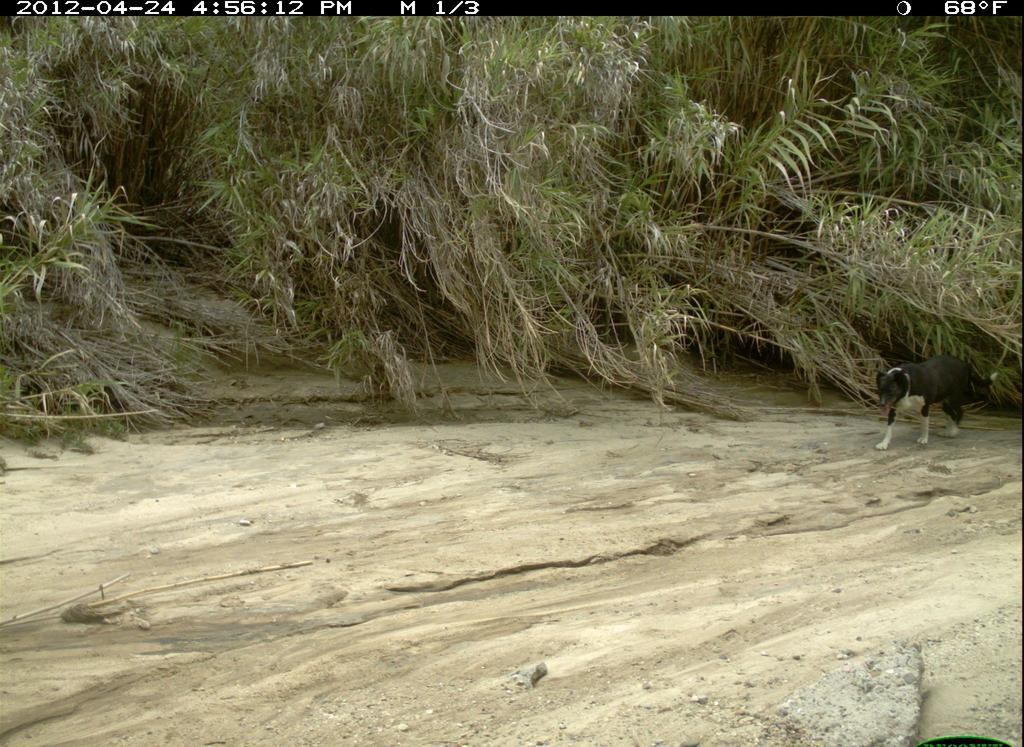dog: (866, 341, 1005, 463)
